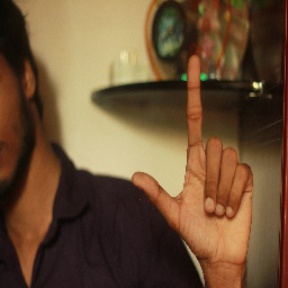L: (128, 54, 257, 259)
